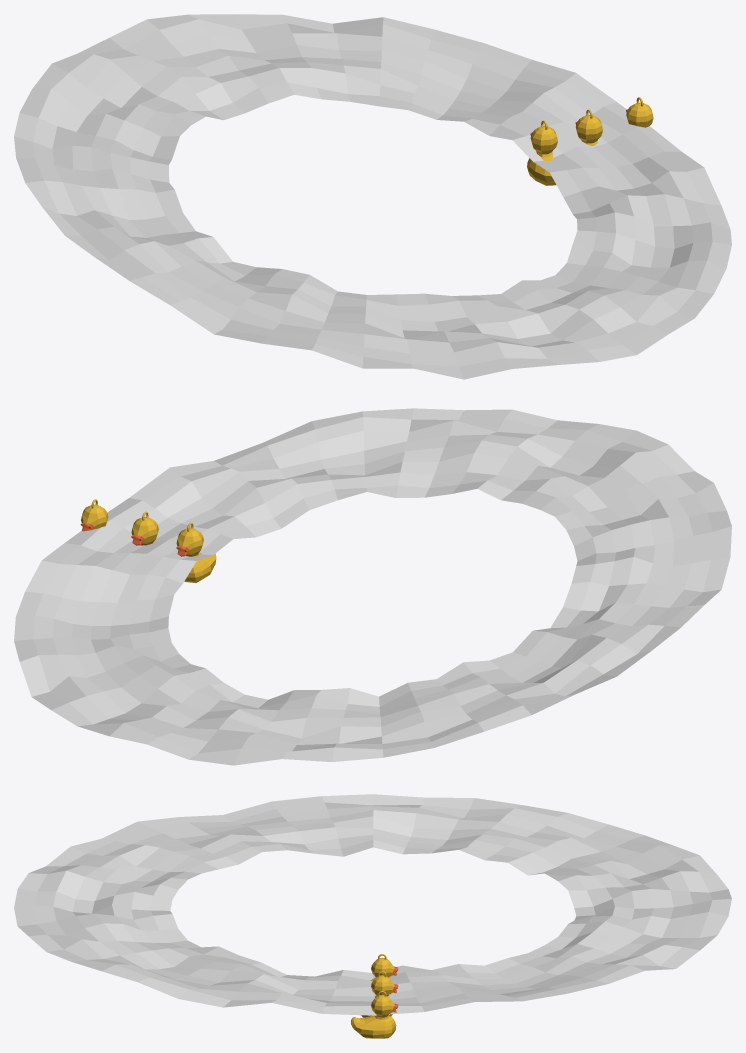
File: WAVE.fbx
3 renders of one model, top to bottom at view 1: azimuth 30°, elevation 25°; view 2: azimuth 150°, elevation 25°; view 3: azimuth 270°, elevation 25°, orthographic. The views are drawn at different scales.
Visible parts, largest first — view 1: WAVE, Rubber_Duck, Rubber_Duck.001, Rubber_Duck.002; view 2: WAVE, Rubber_Duck, Rubber_Duck.001, Rubber_Duck.002; view 3: WAVE, Rubber_Duck.002, Rubber_Duck.001, Rubber_Duck.
Part boxes in pixels (box(x1,y1,x2,y2)): WAVE: box(14, 14, 731, 379); Rubber_Duck: box(527, 120, 557, 185); Rubber_Duck.001: box(575, 109, 602, 145); Rubber_Duck.002: box(626, 97, 653, 127); WAVE: box(14, 408, 731, 765); Rubber_Duck: box(176, 522, 216, 582); Rubber_Duck.001: box(131, 511, 158, 545); Rubber_Duck.002: box(80, 499, 108, 531); WAVE: box(14, 794, 731, 1015); Rubber_Duck.002: box(351, 991, 398, 1038); Rubber_Duck.001: box(361, 971, 398, 1017); Rubber_Duck: box(370, 954, 398, 981).
Size of the model in its own units: 207 by 19.26 by 287.
